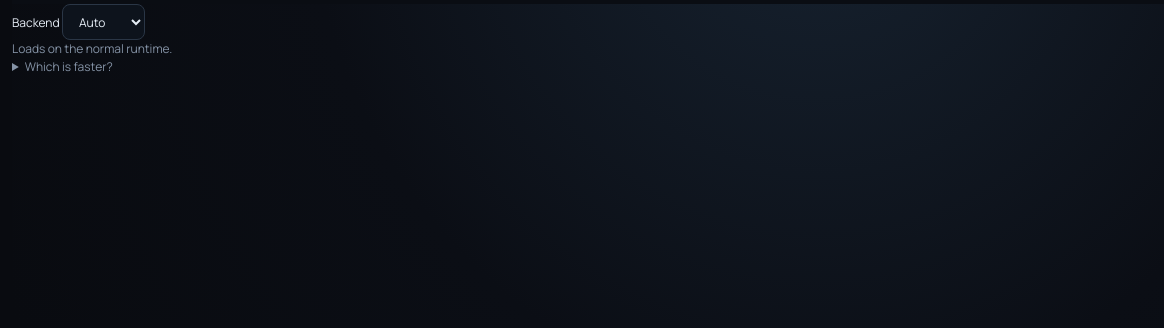
Test: BackendChoice › shows the saved choice, quotes the measurement, and saves a new choice
Select "Vulkan" in the dropdown: {"x": 103, "y": 22} [62, 4, 145, 40]
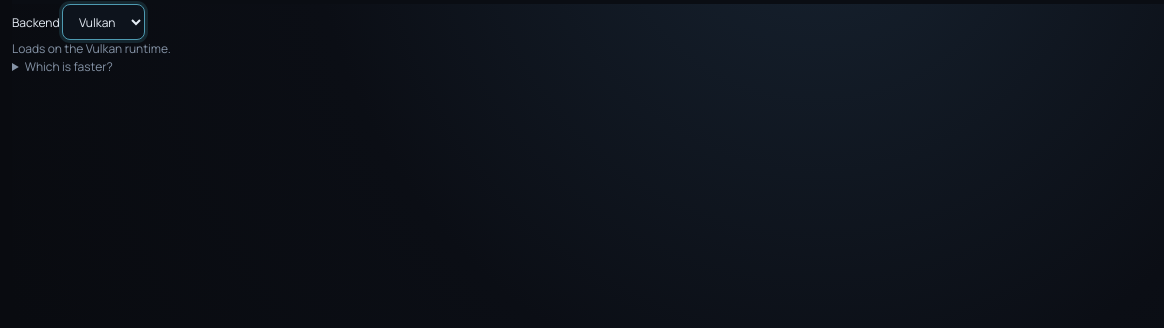
Result: the text "Loads on the Vulkan runtime." is shown at [12, 40, 171, 57]
